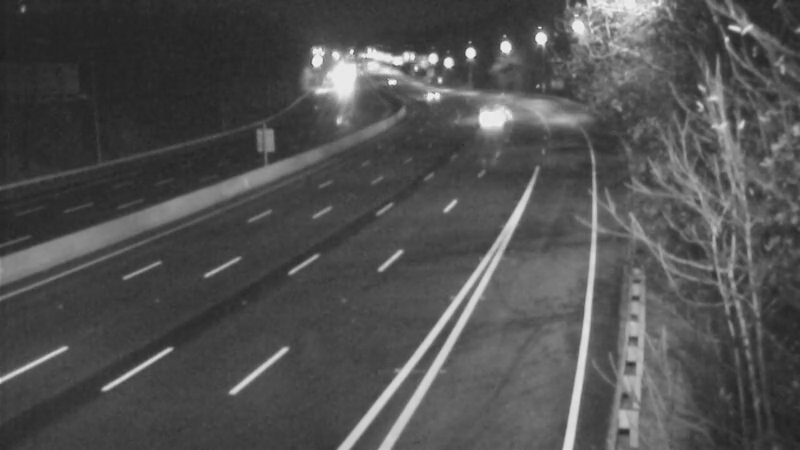vehicle: (366, 55, 416, 105), (396, 68, 446, 118), (466, 94, 516, 144)
